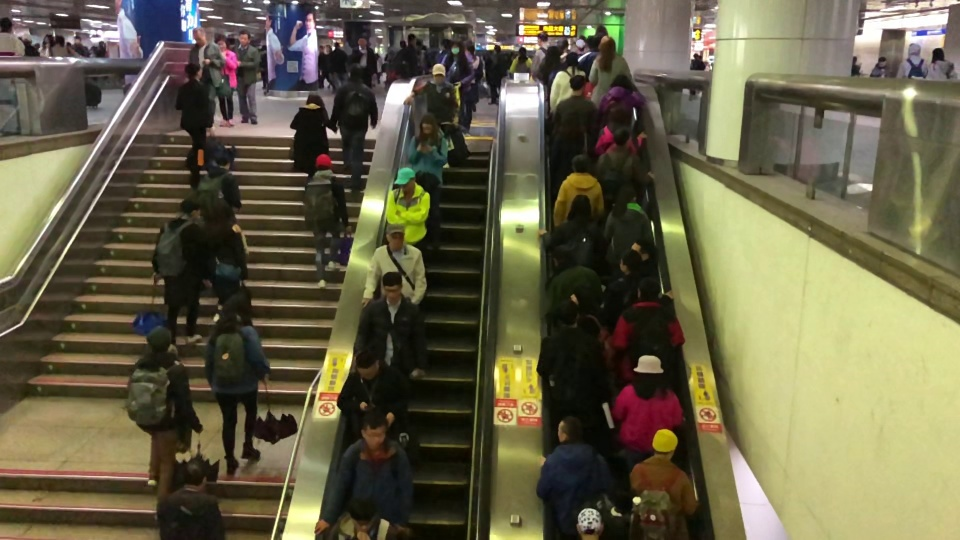person_head: (633, 354, 667, 393), (361, 409, 390, 450), (349, 494, 379, 531), (224, 290, 252, 321), (652, 428, 679, 459), (576, 506, 604, 535), (144, 324, 173, 351), (556, 415, 583, 441), (555, 299, 579, 328), (566, 193, 591, 220), (183, 459, 207, 487), (382, 271, 403, 303), (395, 166, 417, 195), (618, 249, 643, 274), (354, 351, 378, 377), (636, 276, 660, 302), (552, 244, 577, 267), (609, 73, 637, 93), (384, 225, 406, 250), (179, 196, 201, 219), (560, 110, 581, 134), (631, 240, 652, 263), (418, 112, 437, 137), (183, 60, 204, 80), (607, 107, 629, 126), (599, 36, 617, 59), (570, 153, 590, 173), (612, 126, 630, 147), (315, 152, 334, 170), (618, 184, 637, 202), (191, 25, 207, 45), (214, 150, 230, 170), (214, 202, 232, 219), (348, 64, 365, 82), (305, 91, 324, 107), (570, 74, 585, 94), (431, 63, 446, 82), (214, 33, 229, 51), (450, 38, 464, 56), (0, 17, 14, 32), (564, 52, 579, 66), (930, 47, 944, 61), (536, 32, 549, 47), (237, 31, 250, 45), (587, 36, 600, 50), (907, 43, 921, 56), (574, 39, 585, 54), (21, 32, 33, 45), (358, 35, 369, 48), (557, 39, 568, 52), (549, 47, 557, 64), (54, 34, 65, 46), (466, 43, 477, 55), (43, 35, 54, 46), (878, 55, 887, 68), (408, 33, 416, 46), (518, 46, 527, 55), (493, 44, 501, 54), (851, 54, 858, 65), (440, 40, 448, 49), (399, 38, 406, 48), (73, 36, 81, 43), (325, 44, 330, 53), (261, 44, 267, 51), (334, 42, 340, 49), (318, 44, 323, 52), (693, 52, 698, 58)
person_vbox: (124, 324, 205, 523), (313, 409, 413, 536), (206, 290, 273, 476), (610, 354, 685, 517), (586, 276, 685, 380), (535, 412, 612, 535), (150, 196, 210, 348), (535, 299, 605, 422), (628, 428, 697, 540), (359, 273, 429, 379), (303, 153, 352, 290), (329, 63, 379, 190), (359, 221, 429, 309), (406, 110, 449, 249), (337, 349, 408, 432), (403, 62, 457, 169), (603, 249, 675, 329), (155, 459, 226, 540), (175, 59, 217, 188), (204, 202, 248, 323), (538, 193, 608, 269), (287, 91, 338, 192), (385, 166, 431, 274), (544, 242, 605, 313), (597, 127, 655, 200), (188, 26, 226, 136), (603, 182, 654, 259), (553, 152, 604, 228), (330, 493, 407, 540), (441, 41, 474, 148), (195, 148, 242, 221), (587, 34, 632, 108), (550, 73, 596, 135), (233, 31, 262, 125), (594, 107, 647, 158), (213, 33, 241, 127), (598, 74, 646, 126), (548, 52, 585, 118), (551, 109, 590, 170), (465, 43, 484, 138), (484, 44, 507, 104), (351, 36, 378, 87), (896, 42, 929, 80), (393, 33, 418, 76), (929, 46, 958, 81), (0, 16, 24, 57), (531, 32, 550, 82), (579, 36, 601, 74), (508, 44, 532, 75), (688, 52, 703, 101), (333, 43, 348, 81), (870, 55, 891, 78), (260, 45, 270, 92), (52, 36, 68, 57), (72, 37, 86, 57), (326, 45, 332, 88), (41, 36, 53, 57), (318, 44, 324, 86), (851, 55, 860, 76)
